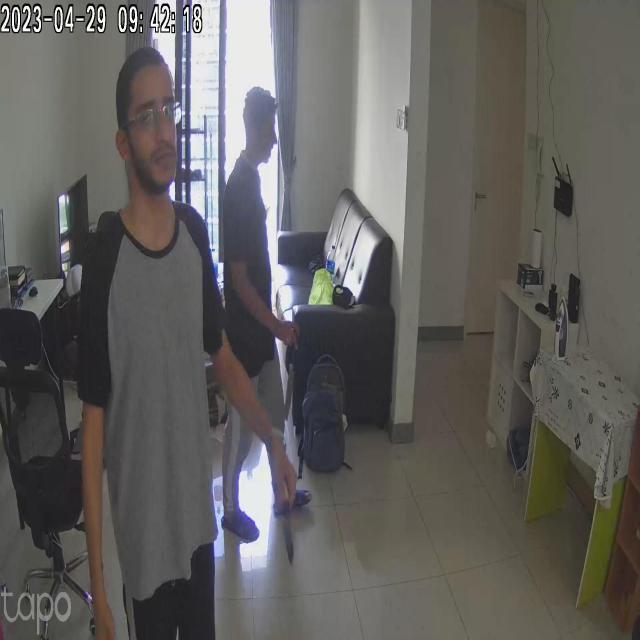Knife: (266, 488, 319, 574)
